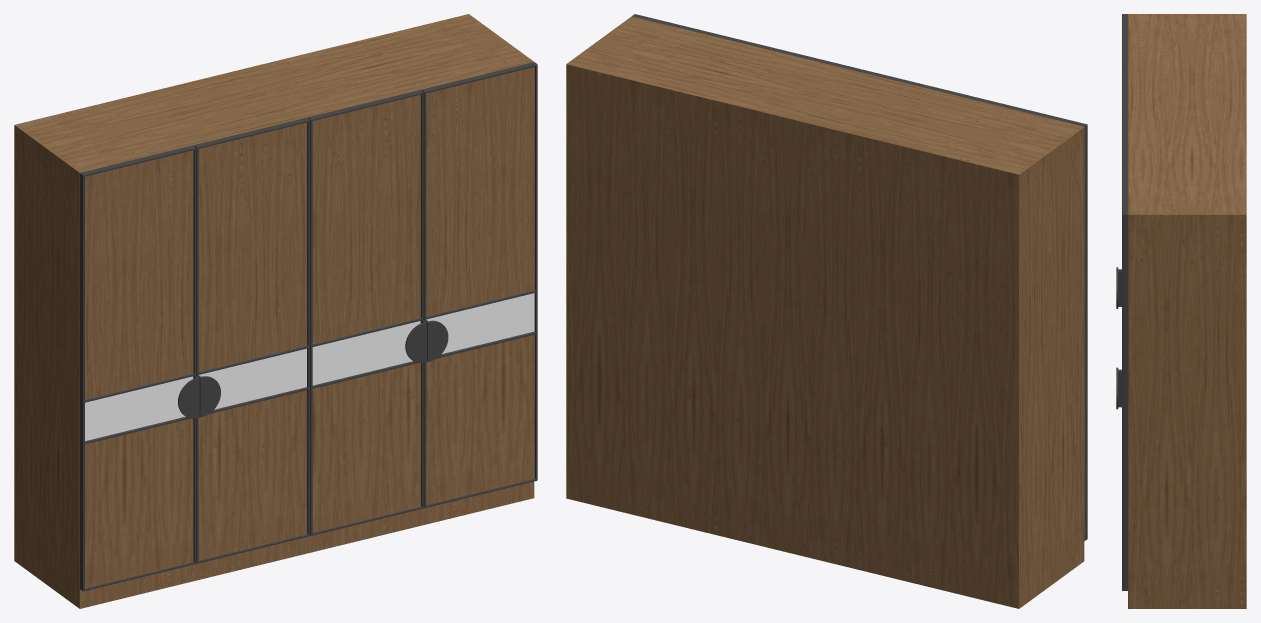
The model's file is modern_four_door_wardrobe.glb.
3 views of the same model, side by side, from view 1: azimuth 30°, elevation 25°; view 2: azimuth 150°, elevation 25°; view 3: azimuth 270°, elevation 25° (orthographic). The views are drawn at different scales.
Parts seen in each view (by area): view 1: Wooden Cupboard; view 2: Wooden Cupboard; view 3: Wooden Cupboard.
Part boxes in pixels (x1,y1,x2,y2): Wooden Cupboard: [14, 14, 537, 608]; Wooden Cupboard: [566, 14, 1087, 608]; Wooden Cupboard: [1116, 14, 1246, 608].
Size of the model in its own units: 2.4 by 2.2 by 0.6601.
4 materials, 1 textured.
